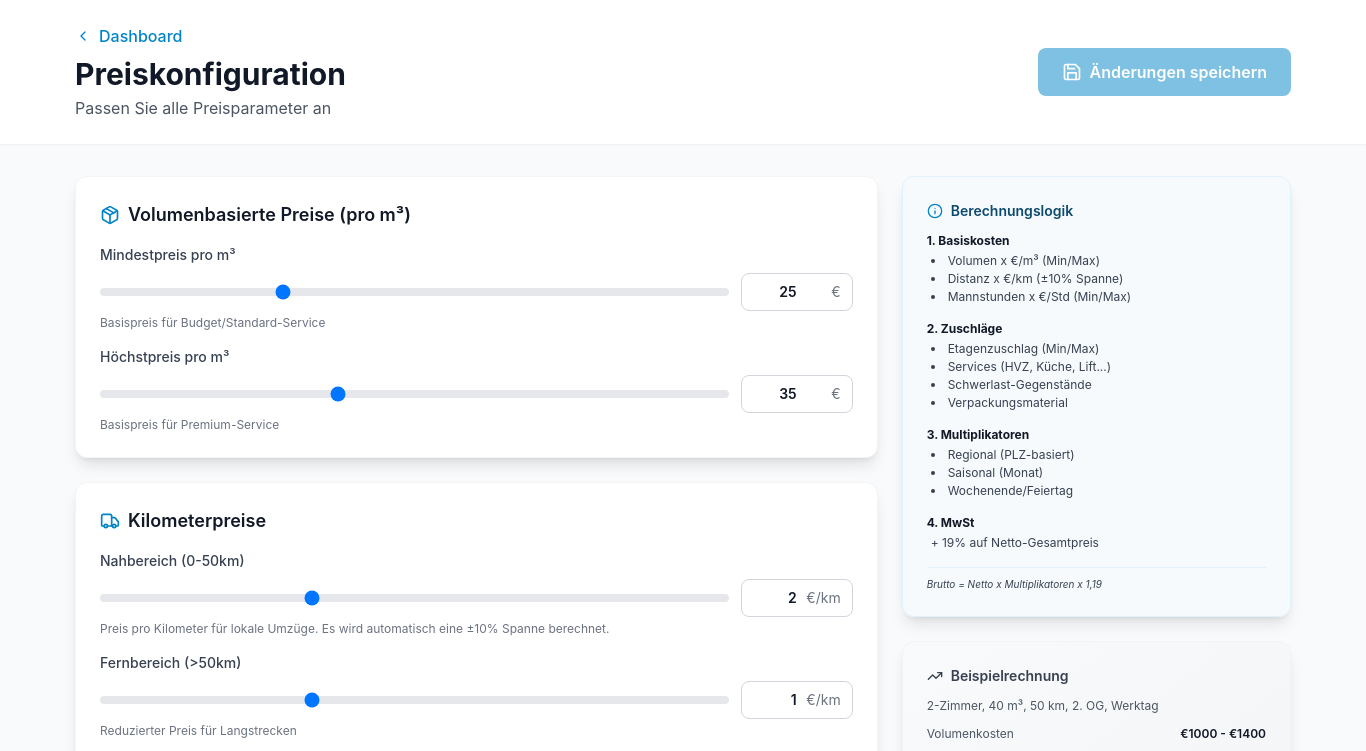
it: Calculation updates on config change › example total updates when rate_km_near changes
This screenshot has width=1366, height=751.
Replace the text in the 3rd number field with "3" at (797, 598), box [741,579,853,617]
(page scrolled)
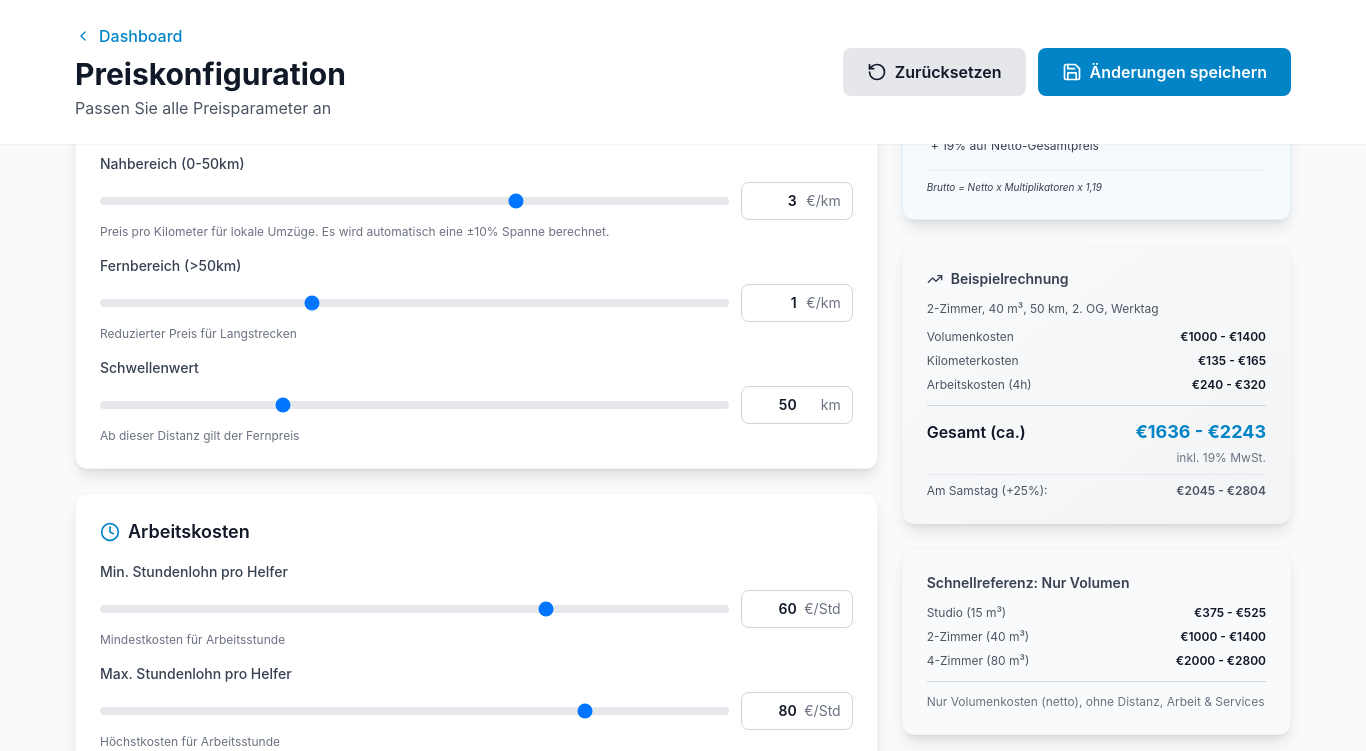
Expected: the text "Beispielrechnung" shows "€1636", [902,244,1291,524]
Expected: the text "Beispielrechnung" shows "€2243", [902,244,1291,524]
